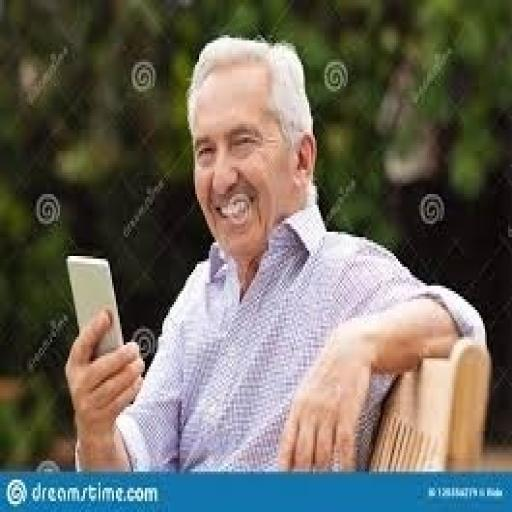texting: (62, 32, 489, 472)
